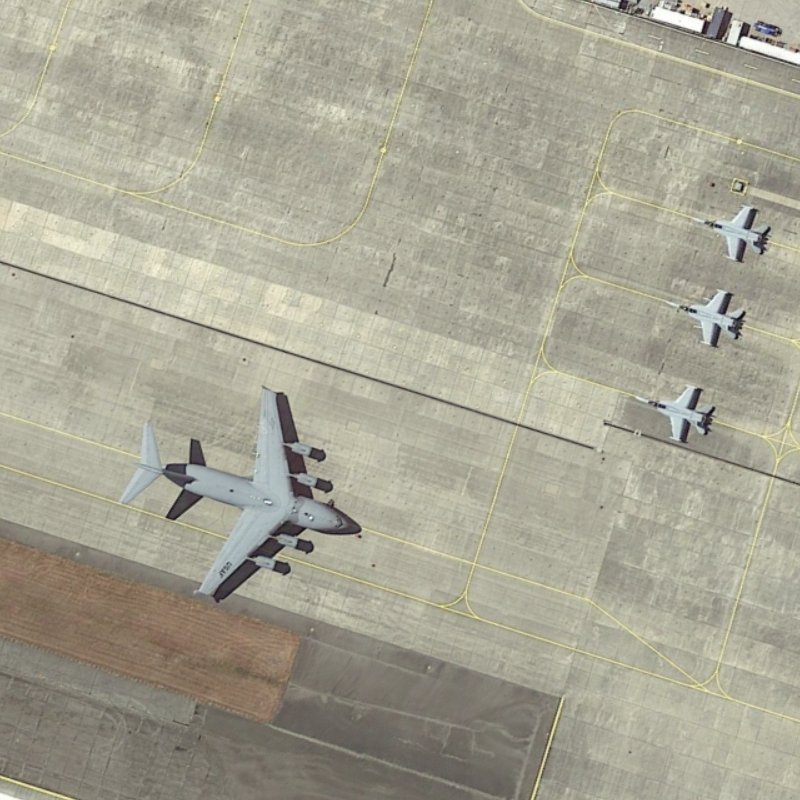A16: (670, 194, 779, 269), (654, 279, 751, 355), (623, 377, 717, 447)
A3: (109, 375, 362, 610)
